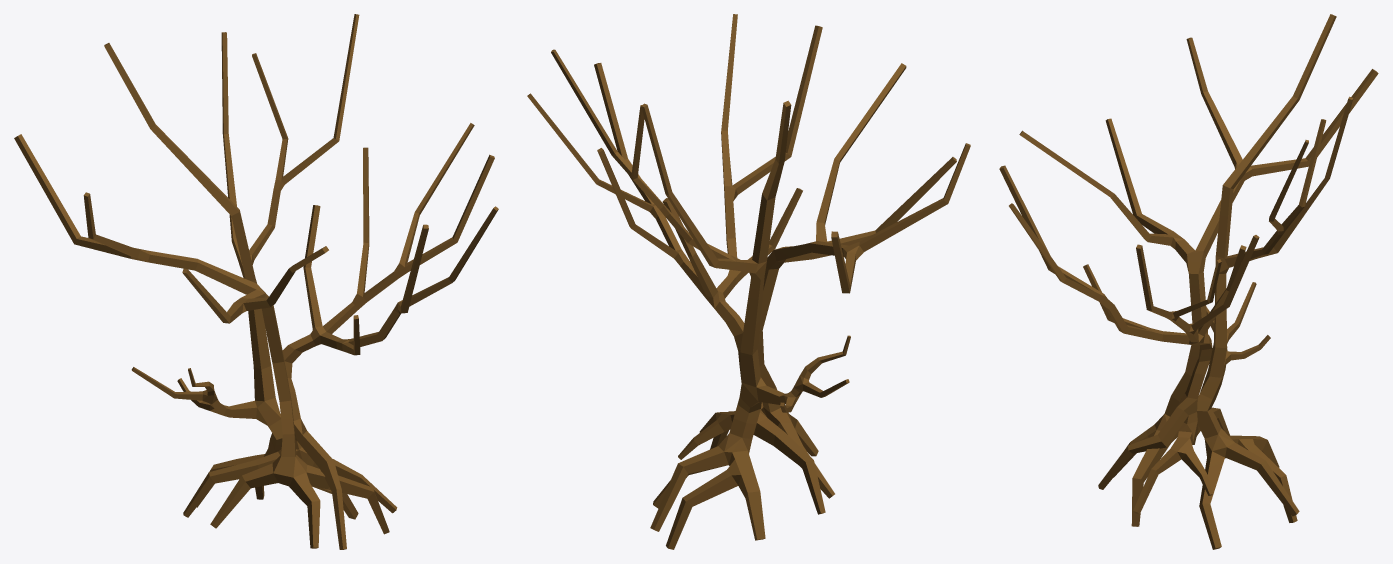
File: LP_Tree_09_NL.fbx
3 views of the same model, side by side, from view 1: azimuth 30°, elevation 25°; view 2: azimuth 150°, elevation 25°; view 3: azimuth 270°, elevation 25° (orthographic). The views are drawn at different scales.
Visible parts, largest first — view 1: LP_Tree_09_NL_LOD0; view 2: LP_Tree_09_NL_LOD0; view 3: LP_Tree_09_NL_LOD0.
Boxes of the visible parts, bbox=[...] form: LP_Tree_09_NL_LOD0: bbox=[14, 14, 498, 549]; LP_Tree_09_NL_LOD0: bbox=[527, 14, 970, 549]; LP_Tree_09_NL_LOD0: bbox=[999, 14, 1378, 549].
Size of what is drawn, in the model's own units: 4.93 by 5.51 by 4.2.
